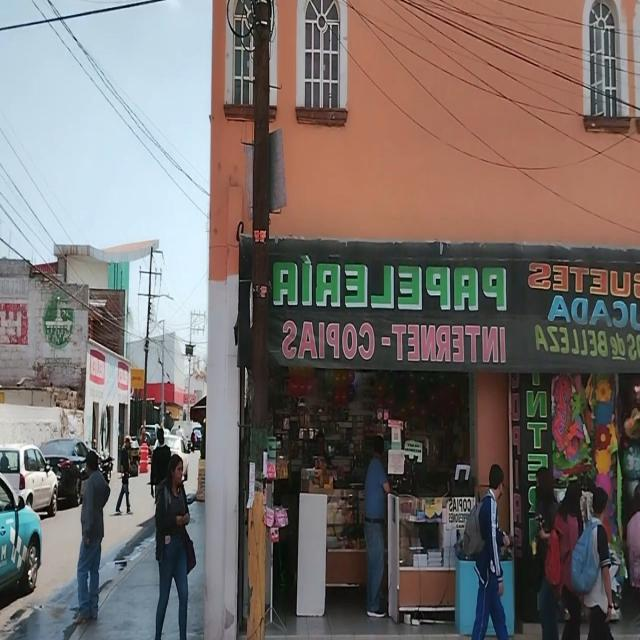adult: (151, 453, 195, 640), (469, 464, 514, 640), (73, 448, 112, 623), (360, 436, 388, 618), (556, 473, 586, 640), (583, 489, 616, 640), (534, 458, 557, 640)
